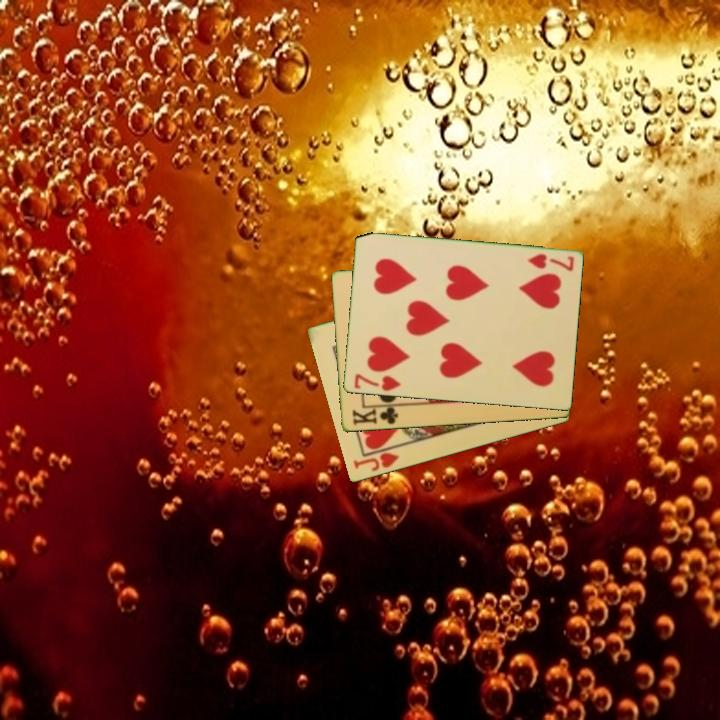7h: (350, 370, 404, 394), (524, 251, 576, 274)
Jh: (350, 449, 402, 474)
Kc: (349, 402, 402, 429)
